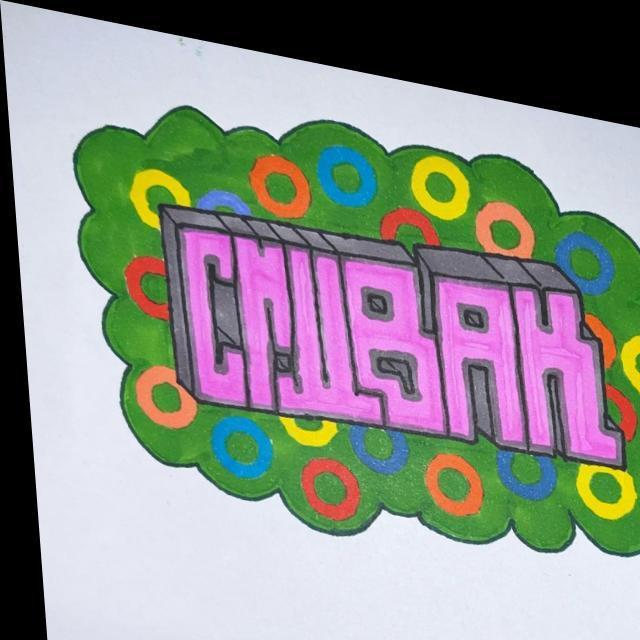-: (59, 63, 640, 554)
